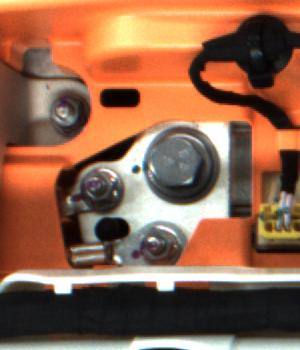nut_b: (138, 124, 224, 206)
